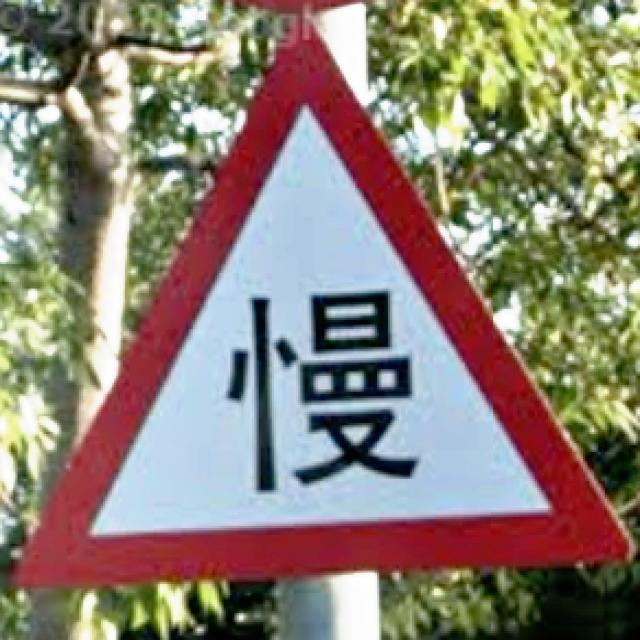slow: (10, 18, 633, 587)
